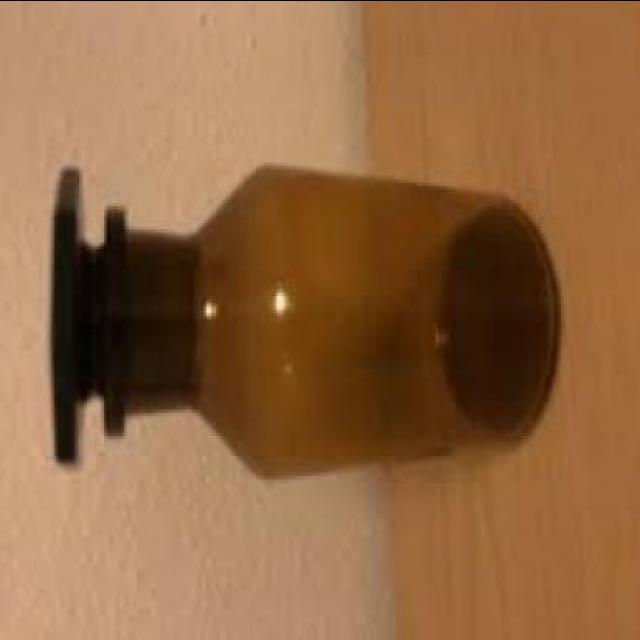kaca: (49, 162, 560, 488)
